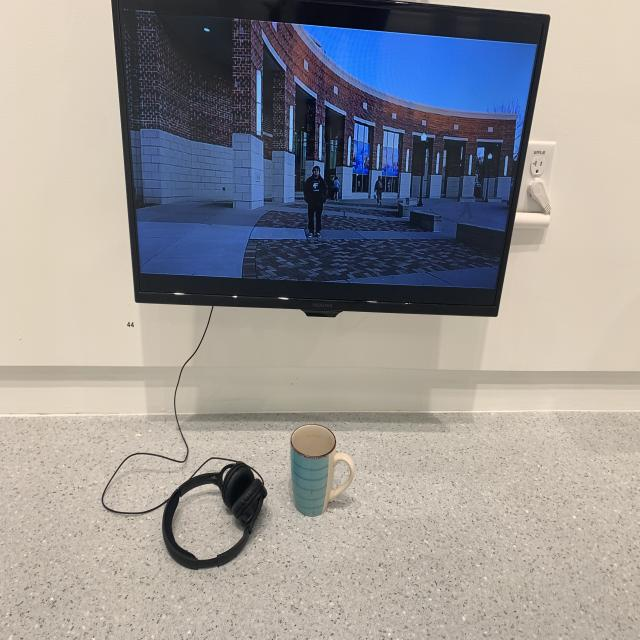Cup: (284, 417, 362, 529)
